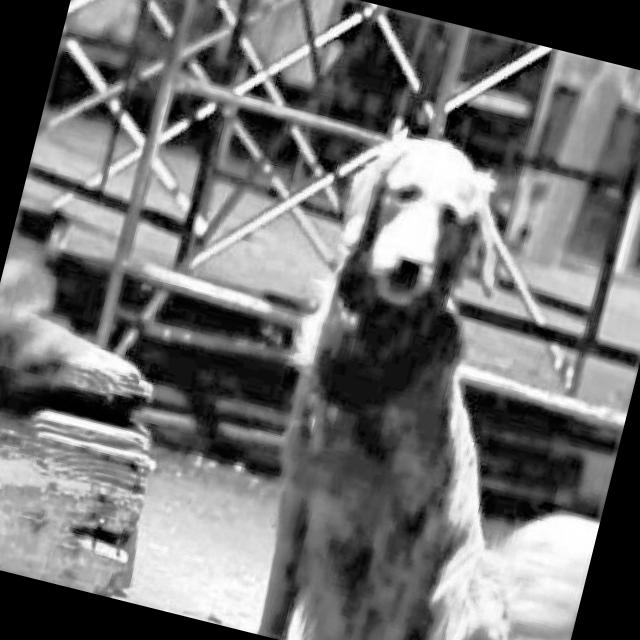Dog: (216, 86, 635, 640)
